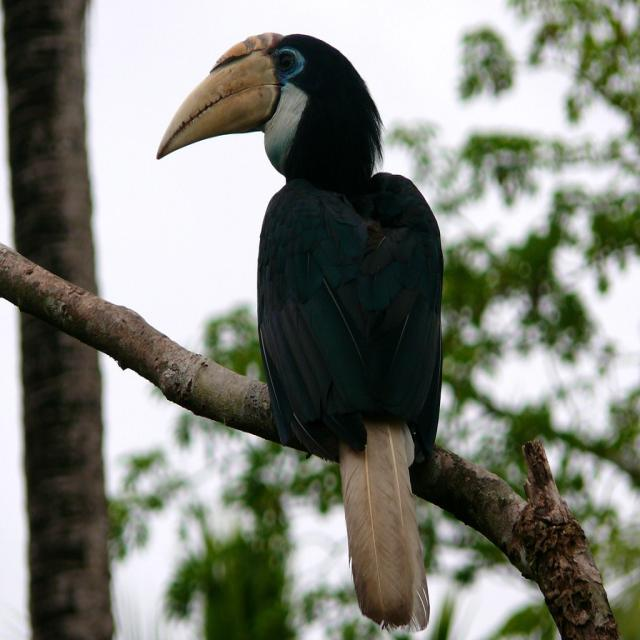Hornbill: (152, 23, 451, 640)
